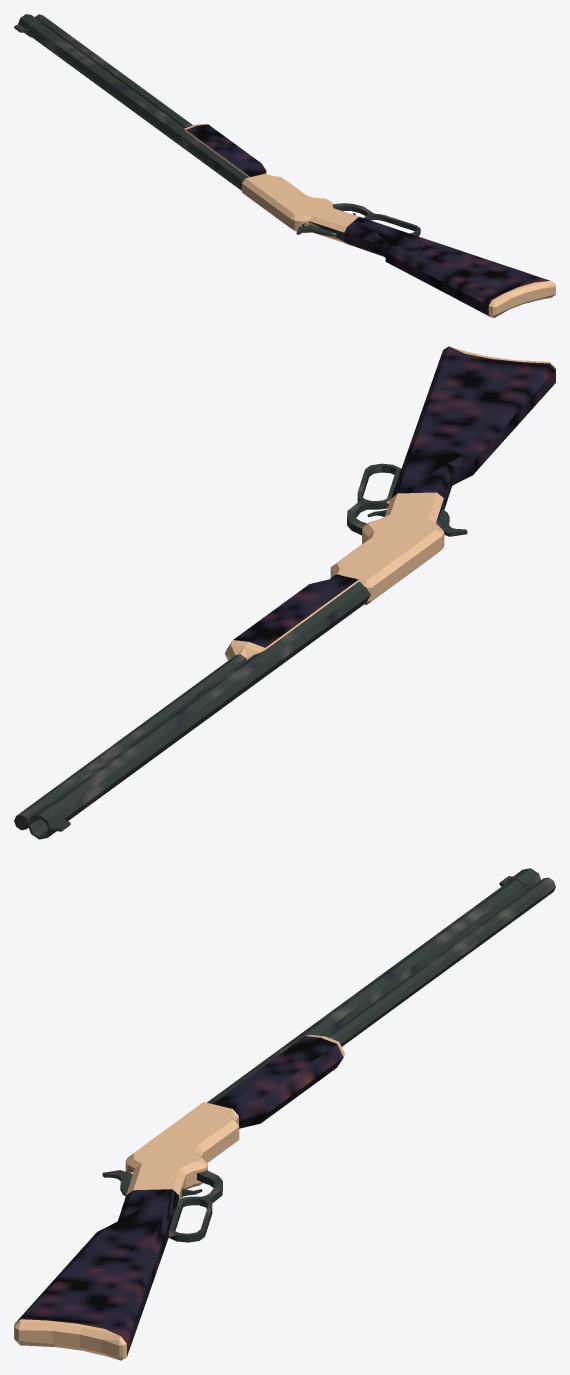
The model's file is RiflePixel.glb.
3 renders of one model, top to bottom at view 1: azimuth 30°, elevation 25°; view 2: azimuth 150°, elevation 25°; view 3: azimuth 330°, elevation 25°, orthographic. The views are drawn at different scales.
Parts seen in each view (by area): view 1: Rifle; view 2: Rifle; view 3: Rifle.
Boxes of the visible parts, x1=… form: Rifle: x1=14, y1=14, x2=555, y2=317; Rifle: x1=14, y1=346, x2=555, y2=839; Rifle: x1=14, y1=868, x2=555, y2=1360.
Bounding box in the file's own units: 0.4237 × 0.0573 × 2.19.
Materials: 3 (3 with a texture image).
